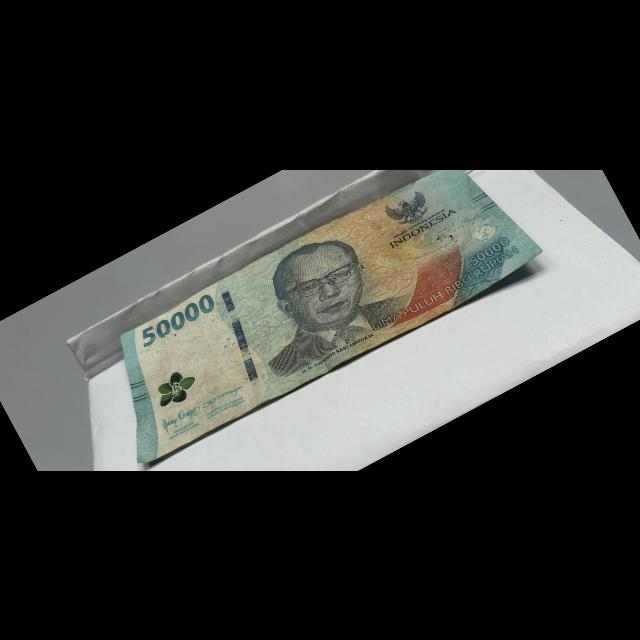Palsu-50k: (77, 137, 556, 470)
Tinta-Palsu-50k: (148, 364, 203, 411)
